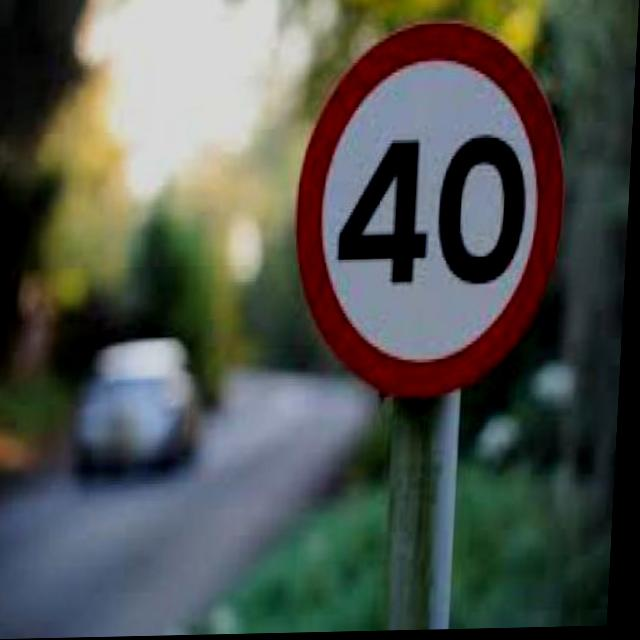limit40: (286, 16, 578, 409)
